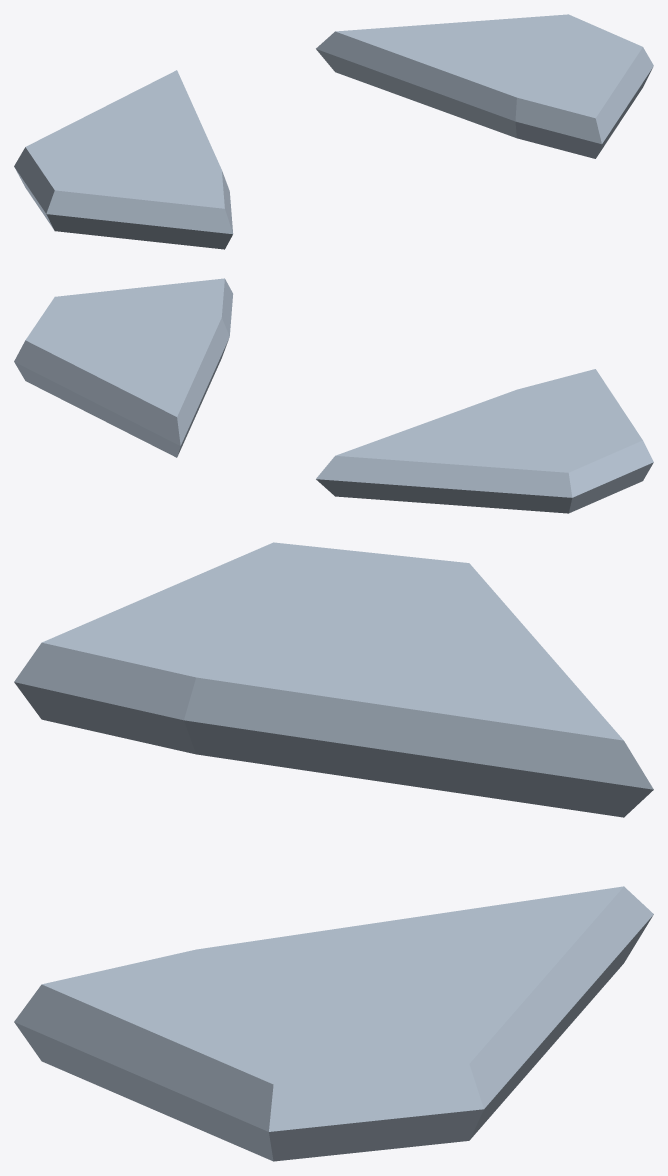
File: player_upgrade_hull_plating.glb
3 renders of one model, top to bottom at view 1: azimuth 30°, elevation 25°; view 2: azimuth 150°, elevation 25°; view 3: azimuth 270°, elevation 25°, orthographic. The views are drawn at different scales.
Visible parts, largest first — view 1: PLAYER UPGRADE // HULL PLATING; view 2: PLAYER UPGRADE // HULL PLATING; view 3: PLAYER UPGRADE // HULL PLATING.
Boxes of the visible parts, bbox=[...] form: PLAYER UPGRADE // HULL PLATING: bbox=[14, 14, 653, 249]; PLAYER UPGRADE // HULL PLATING: bbox=[14, 278, 653, 513]; PLAYER UPGRADE // HULL PLATING: bbox=[14, 542, 653, 1161].
Bounding box in the file's own units: 4.68 × 0.3 × 2.26.
